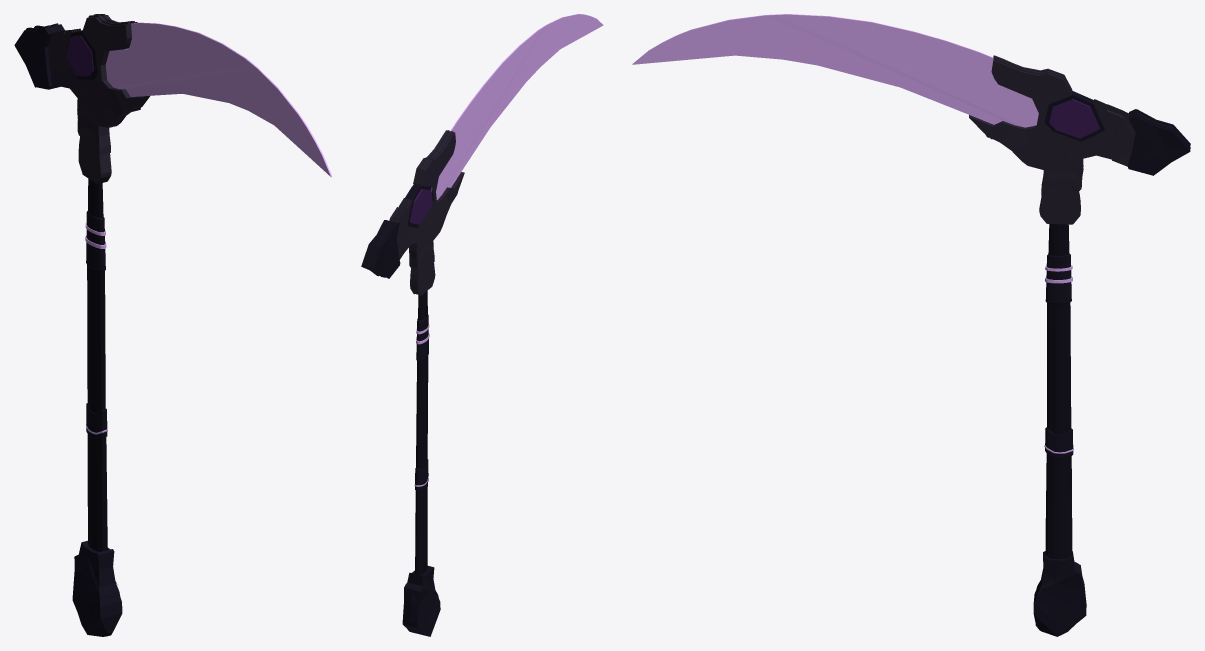
Rendered from Weapon_VoidScythe.obj.
3 views of the same model, side by side, from view 1: azimuth 30°, elevation 25°; view 2: azimuth 150°, elevation 25°; view 3: azimuth 270°, elevation 25° (orthographic). The views are drawn at different scales.
Visible parts, largest first — view 1: part_0, part_2, part_1, part_3, part_4; view 2: part_0, part_2, part_1, part_3, part_4; view 3: part_0, part_1, part_2, part_3, part_4.
Boxes of the visible parts, <box> form: part_0: <box>85,22,332,434</box>; part_2: <box>14,23,122,636</box>; part_1: <box>48,14,150,183</box>; part_3: <box>87,178,107,551</box>; part_4: <box>65,35,93,76</box>; part_0: <box>414,14,603,486</box>; part_2: <box>361,184,440,636</box>; part_1: <box>389,130,464,295</box>; part_3: <box>415,291,428,575</box>; part_4: <box>405,187,432,224</box>; part_0: <box>632,14,1073,453</box>; part_1: <box>969,55,1135,224</box>; part_2: <box>1033,91,1190,636</box>; part_3: <box>1045,224,1072,559</box>; part_4: <box>1049,98,1099,138</box>.
Size of the model in its own units: 0.072 by 2.15 by 1.76.
